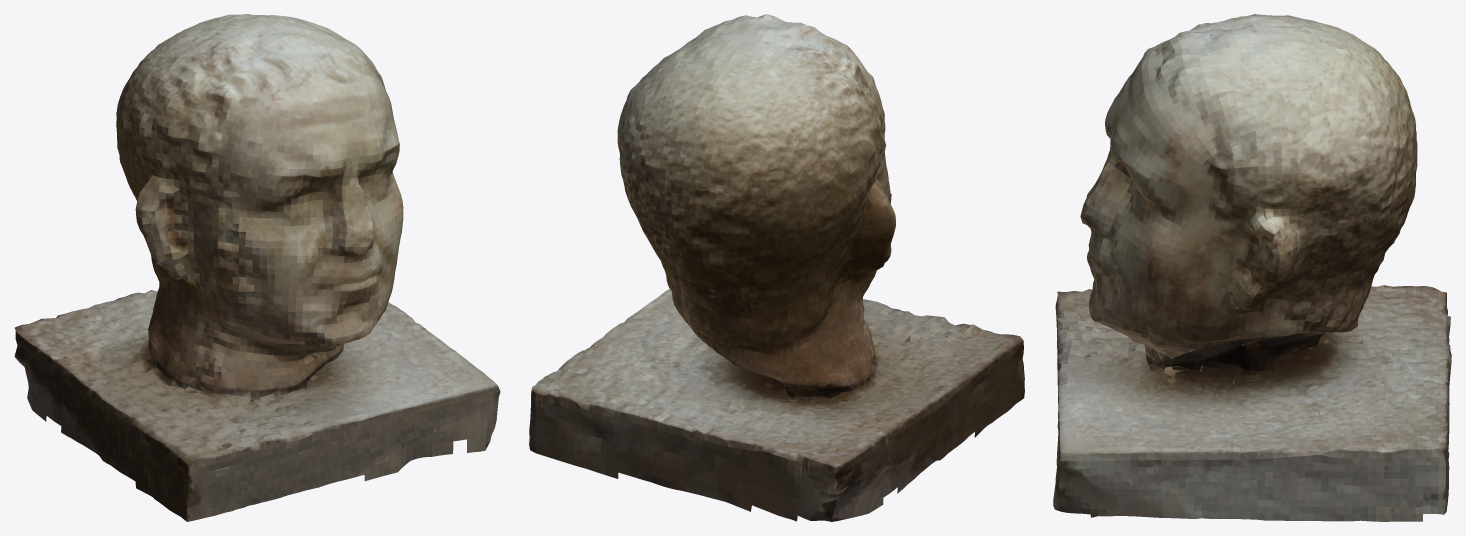
File: vespasiano_export.gltf
The picture shows the model from 3 angles, left to right: view 1: azimuth 30°, elevation 25°; view 2: azimuth 150°, elevation 25°; view 3: azimuth 270°, elevation 25°; orthographic projection. The views are drawn at different scales.
Visible parts, largest first — view 1: instant2; view 2: instant2; view 3: instant2.
Part boxes in pixels (x1,y1,x2,y2): instant2: [14, 14, 500, 521]; instant2: [529, 14, 1024, 521]; instant2: [1053, 14, 1451, 521].
Bounding box in the file's own units: 0.9247 × 1.07 × 0.9293.
1 material, 1 textured.
